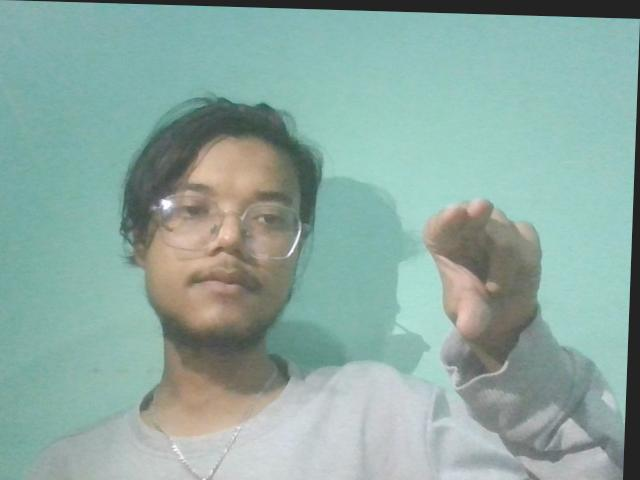No: (413, 175, 576, 367)
